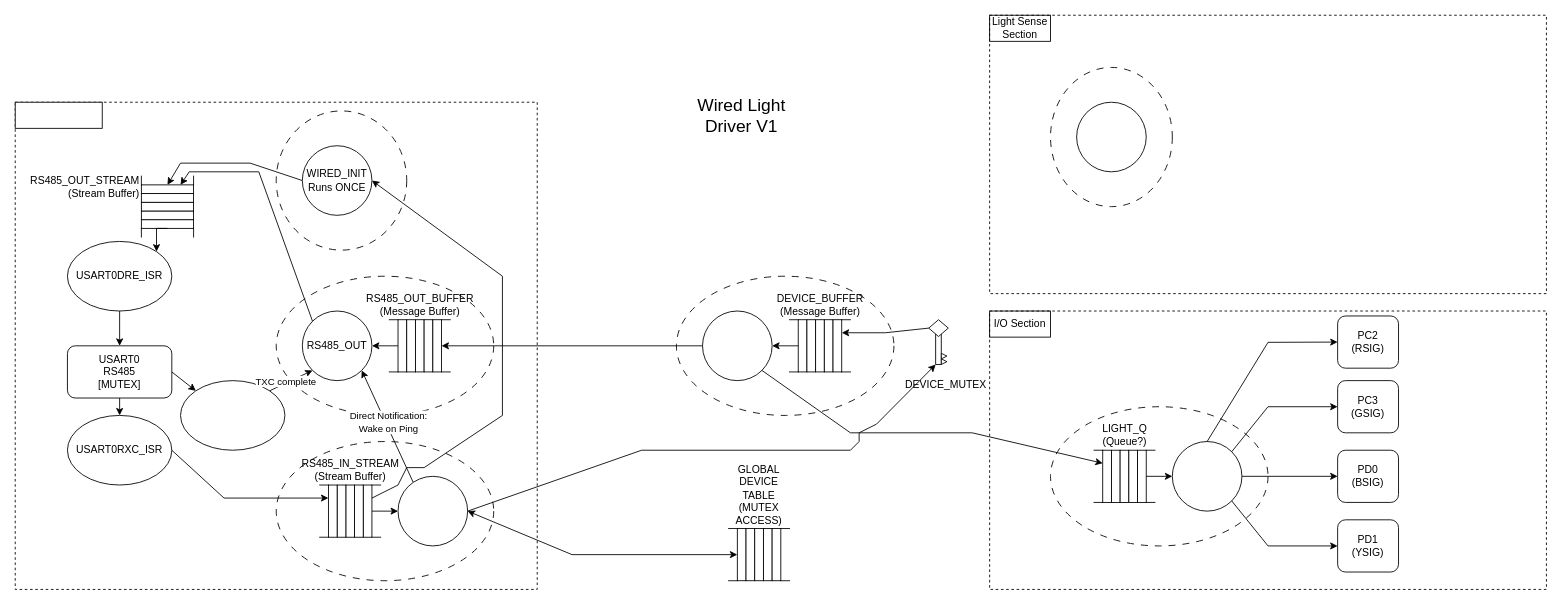
Image size: 1562x605. Some labels were removed from this diagram. Here are the shapes that lost their labels. From the top down, the centre of each, then its label:
At point (58, 114): "RS485 Section".
At point (1111, 136): "LIGHT_CHECK".
At point (737, 345): "DEVICE SPECIFIC".
At point (232, 415): "USART0TXC_ISR".
At point (1206, 476): "LIGHT_OUT".
At point (432, 510): "RS485_IN".
